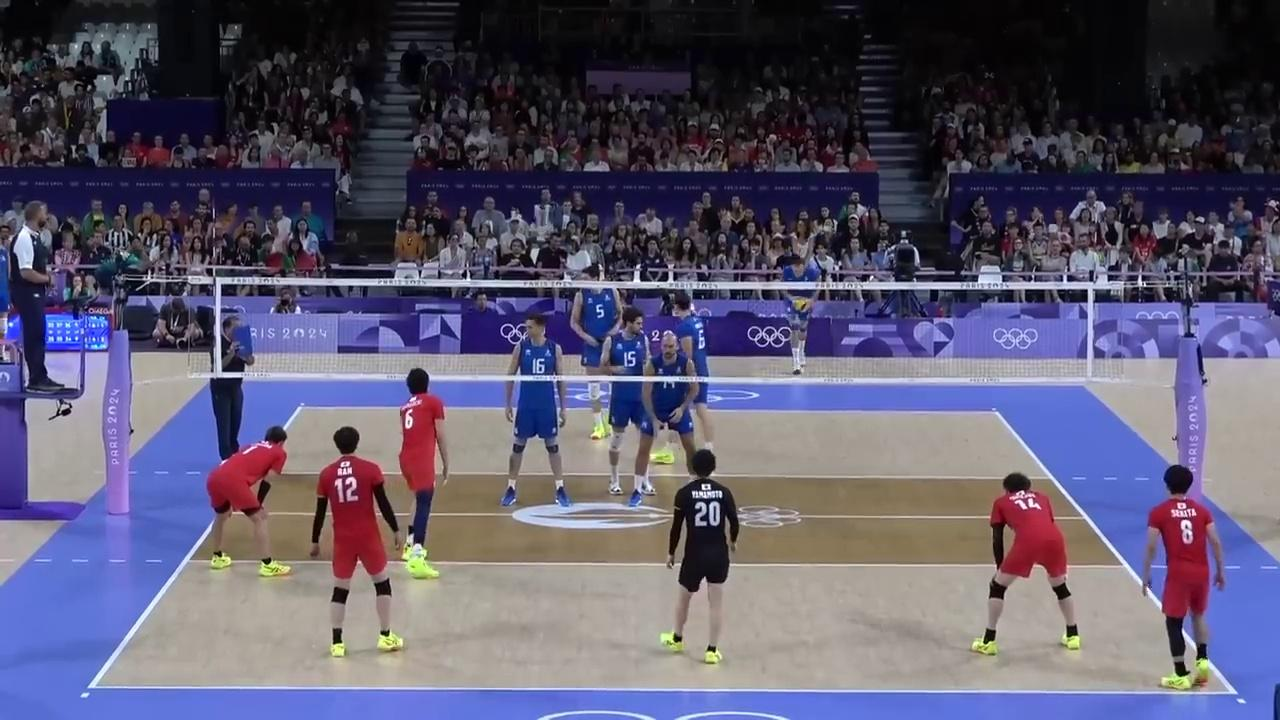ball: (796, 297, 810, 312)
